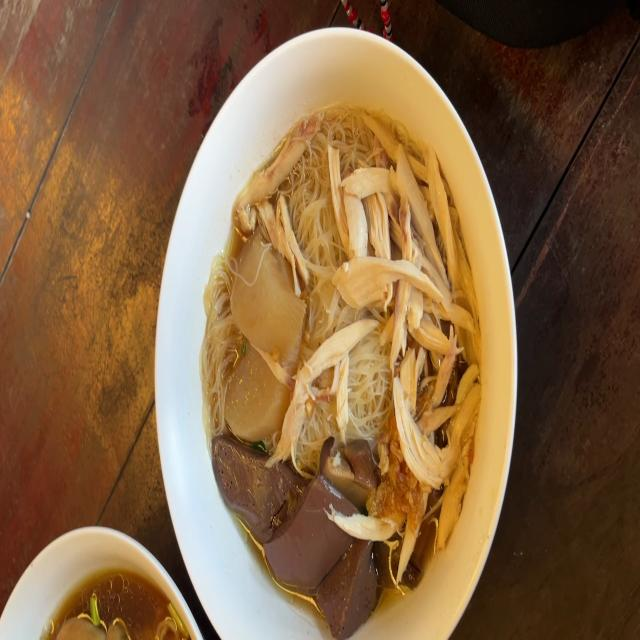noodle: (205, 100, 482, 640), (39, 564, 198, 640)
